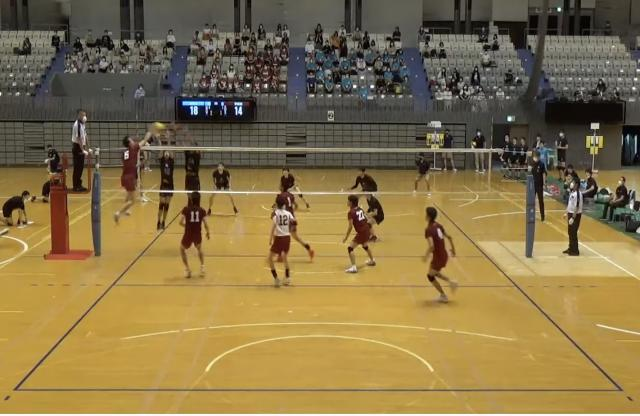spike: (112, 120, 162, 228)
